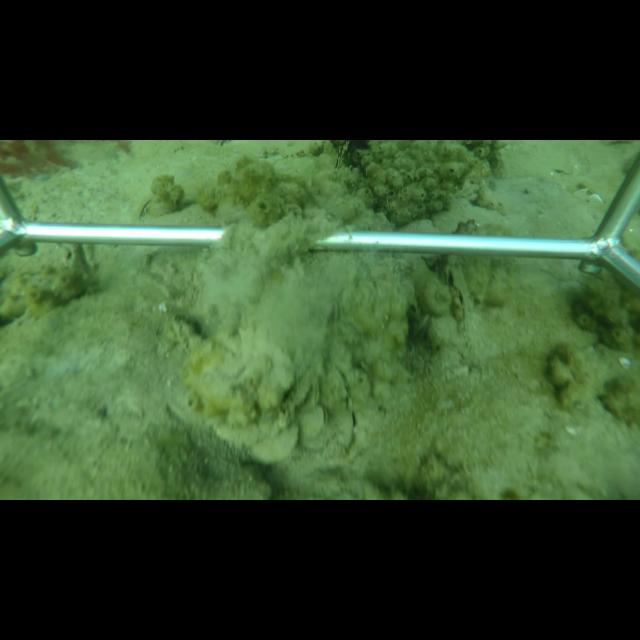Oyster-Open: (444, 259, 478, 348), (331, 141, 353, 177)
